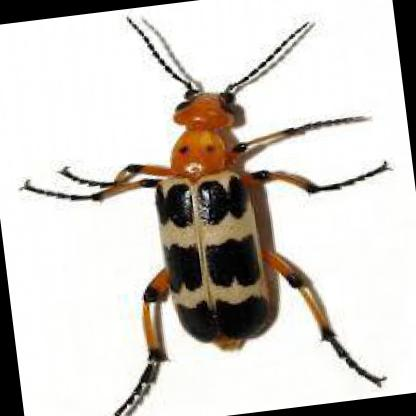blister beetle: (23, 20, 386, 416)
